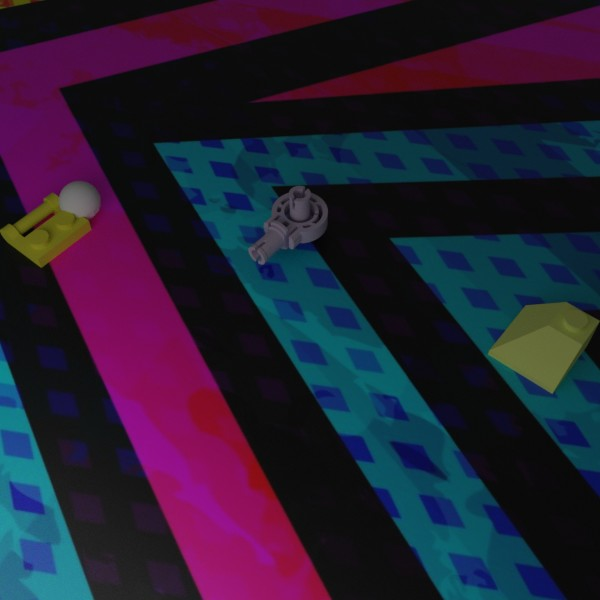lego: (488, 302, 600, 394), (0, 192, 91, 267), (248, 185, 327, 264), (58, 180, 100, 221)
